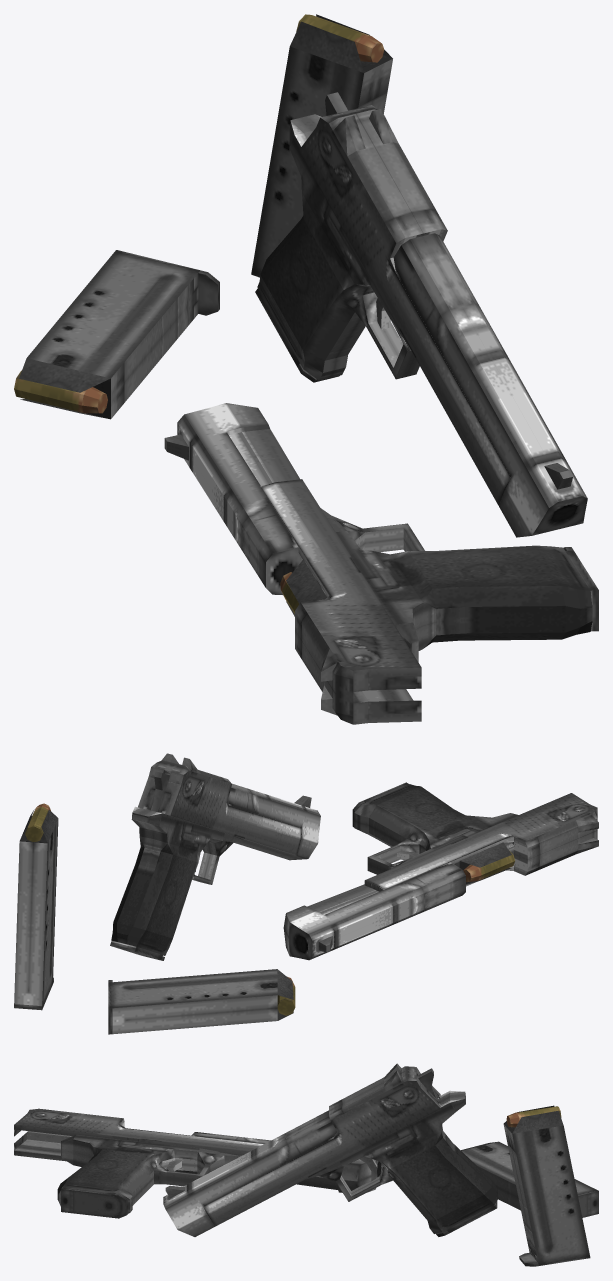
The model's file is DesertEaglePS1.fbx.
3 renders of one model, top to bottom at view 1: azimuth 30°, elevation 25°; view 2: azimuth 150°, elevation 25°; view 3: azimuth 270°, elevation 25°, orthographic. The views are drawn at different scales.
Visible parts, largest first — view 1: Cube.002, Cube.007, Cube.005, Cube, Cube.011, Cube.010, Cylinder.003, Cube.006, Cylinder.002; view 2: Cube.007, Cube.002, Cube.011, Cube, Cube.010, Cube.005, Cube.006, Cylinder.001, Cylinder.002, Cube.003, Cube.001; view 3: Cube.002, Cube.005, Cube.010, Cube.007, Cube, Cube.011, Cube.006, Cylinder.002, Cube.001.
Part boxes in pixels (bbox=[...]): Cube.002: bbox=[257, 114, 587, 537]; Cube.007: bbox=[164, 403, 592, 662]; Cube.005: bbox=[299, 105, 511, 505]; Cube: bbox=[260, 479, 421, 724]; Cube.011: bbox=[19, 250, 219, 419]; Cube.010: bbox=[251, 14, 392, 277]; Cylinder.003: bbox=[14, 370, 107, 413]; Cube.006: bbox=[286, 547, 598, 631]; Cylinder.002: bbox=[296, 14, 384, 62]; Cube.007: bbox=[283, 784, 518, 960]; Cube.002: bbox=[111, 783, 320, 955]; Cube.011: bbox=[108, 969, 293, 1034]; Cube: bbox=[364, 793, 598, 891]; Cube.010: bbox=[14, 809, 58, 1010]; Cube.005: bbox=[138, 753, 302, 855]; Cube.006: bbox=[352, 782, 511, 884]; Cylinder.001: bbox=[463, 850, 514, 882]; Cylinder.002: bbox=[25, 803, 50, 841]; Cube.003: bbox=[152, 771, 170, 811]; Cube.001: bbox=[110, 941, 164, 960]; Cube.002: bbox=[163, 1090, 497, 1236]; Cube.005: bbox=[203, 1063, 440, 1226]; Cube.010: bbox=[503, 1105, 590, 1266]; Cube.007: bbox=[57, 1132, 382, 1213]; Cube: bbox=[14, 1108, 263, 1161]; Cube.011: bbox=[461, 1141, 598, 1217]; Cube.006: bbox=[61, 1187, 127, 1218]; Cylinder.002: bbox=[506, 1106, 561, 1127]; Cube.001: bbox=[436, 1201, 497, 1236].
Size of the model in its own units: 466 by 270 by 863.
